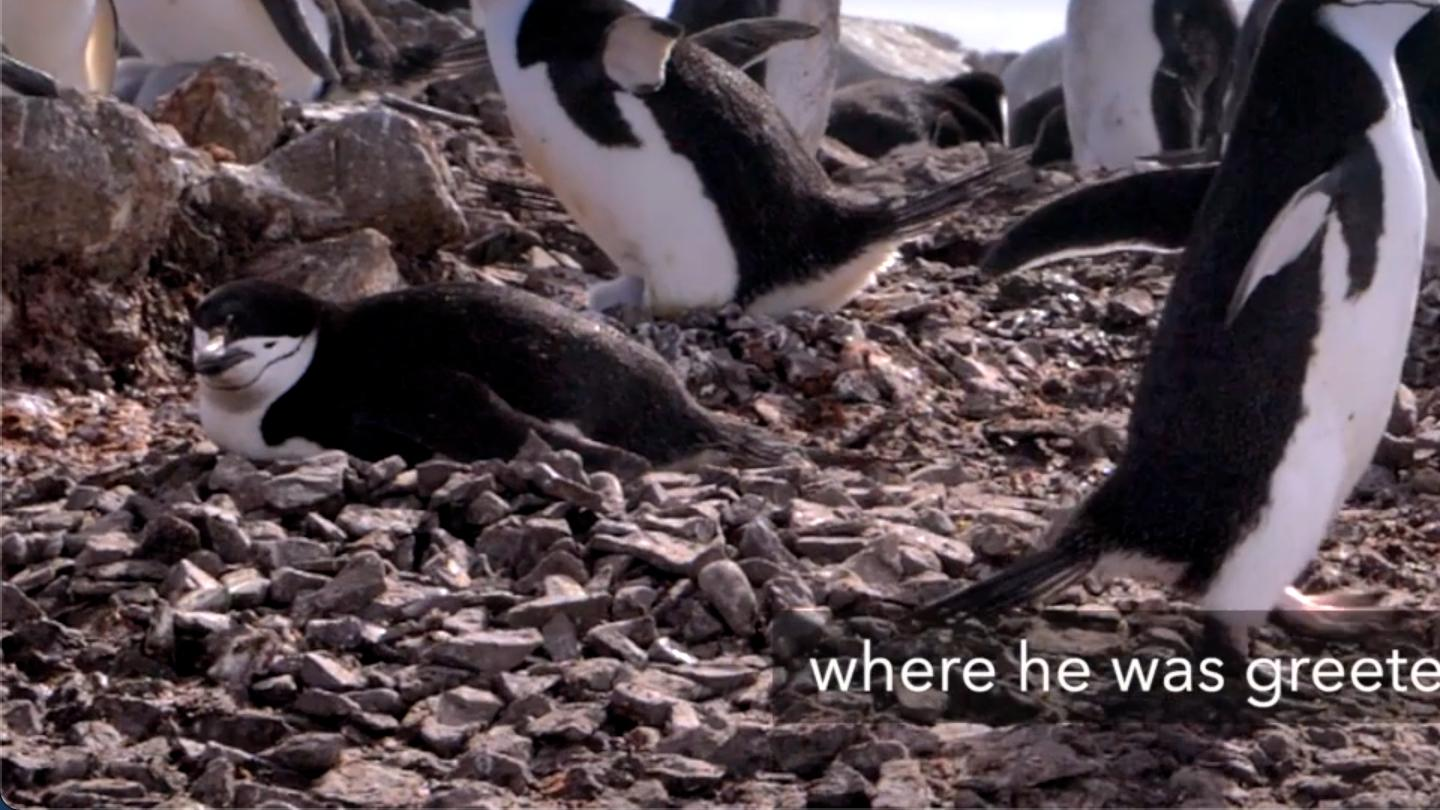Chinstrap Penguin: (992, 0, 1440, 611), (171, 283, 753, 476), (999, 0, 1246, 186), (83, 0, 350, 96), (1253, 0, 1423, 110), (367, 0, 628, 70), (0, 0, 110, 126), (669, 0, 874, 4)
